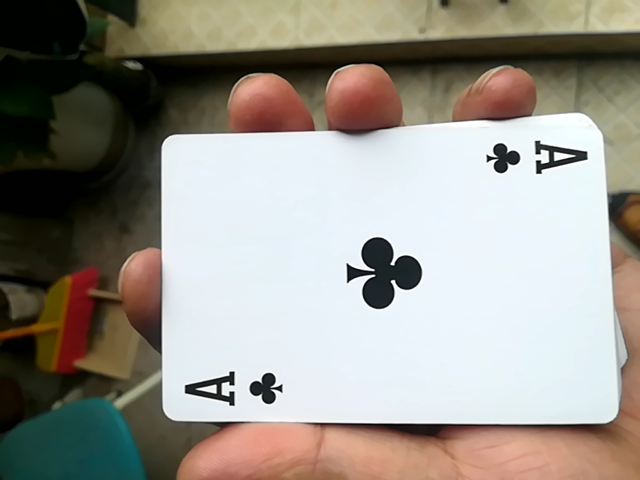mh a: (135, 124, 620, 437)
